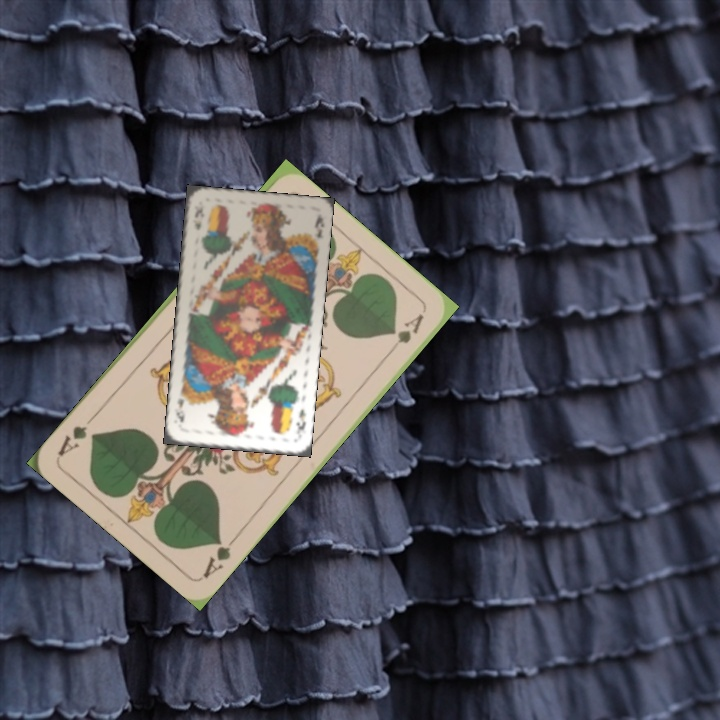EK: (292, 405, 309, 433), (191, 203, 204, 233)
GA: (198, 531, 241, 581)
